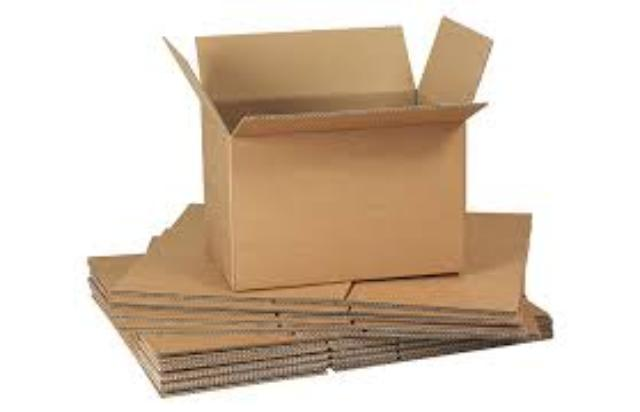cardboard paper: (87, 16, 546, 390), (167, 16, 486, 287)
